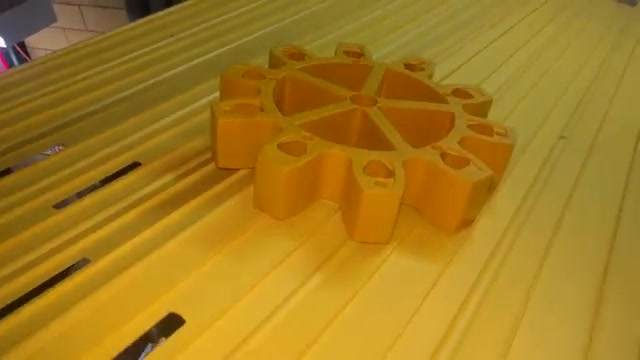gear: (206, 27, 537, 262)
